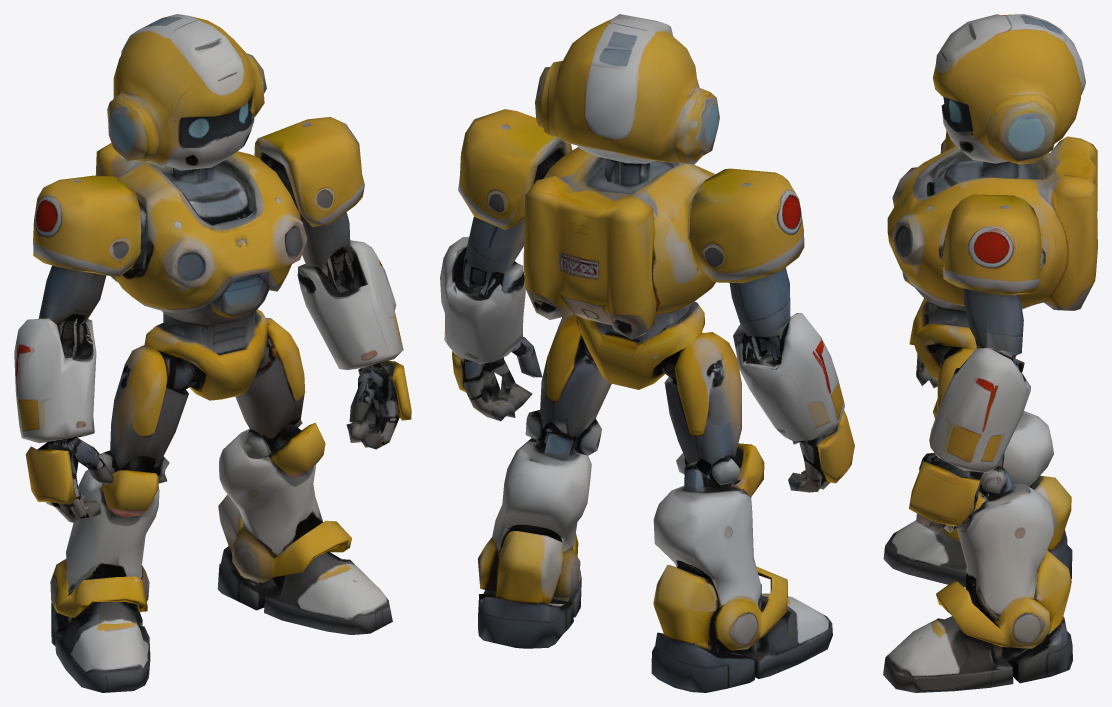
Rendered from sage_supporter.glb.
3 views of the same model, side by side, from view 1: azimuth 30°, elevation 25°; view 2: azimuth 150°, elevation 25°; view 3: azimuth 270°, elevation 25° (orthographic). The views are drawn at different scales.
Parts seen in each view (by area): view 1: tripo_node_8da32b4d; view 2: tripo_node_8da32b4d; view 3: tripo_node_8da32b4d.
Part boxes in pixels (bbox=[...]): tripo_node_8da32b4d: bbox=[14, 14, 411, 692]; tripo_node_8da32b4d: bbox=[440, 14, 854, 692]; tripo_node_8da32b4d: bbox=[883, 14, 1097, 692].
Bounding box in the file's own units: 0.657 × 1 × 0.3263.
Materials: 1 (1 with a texture image).
